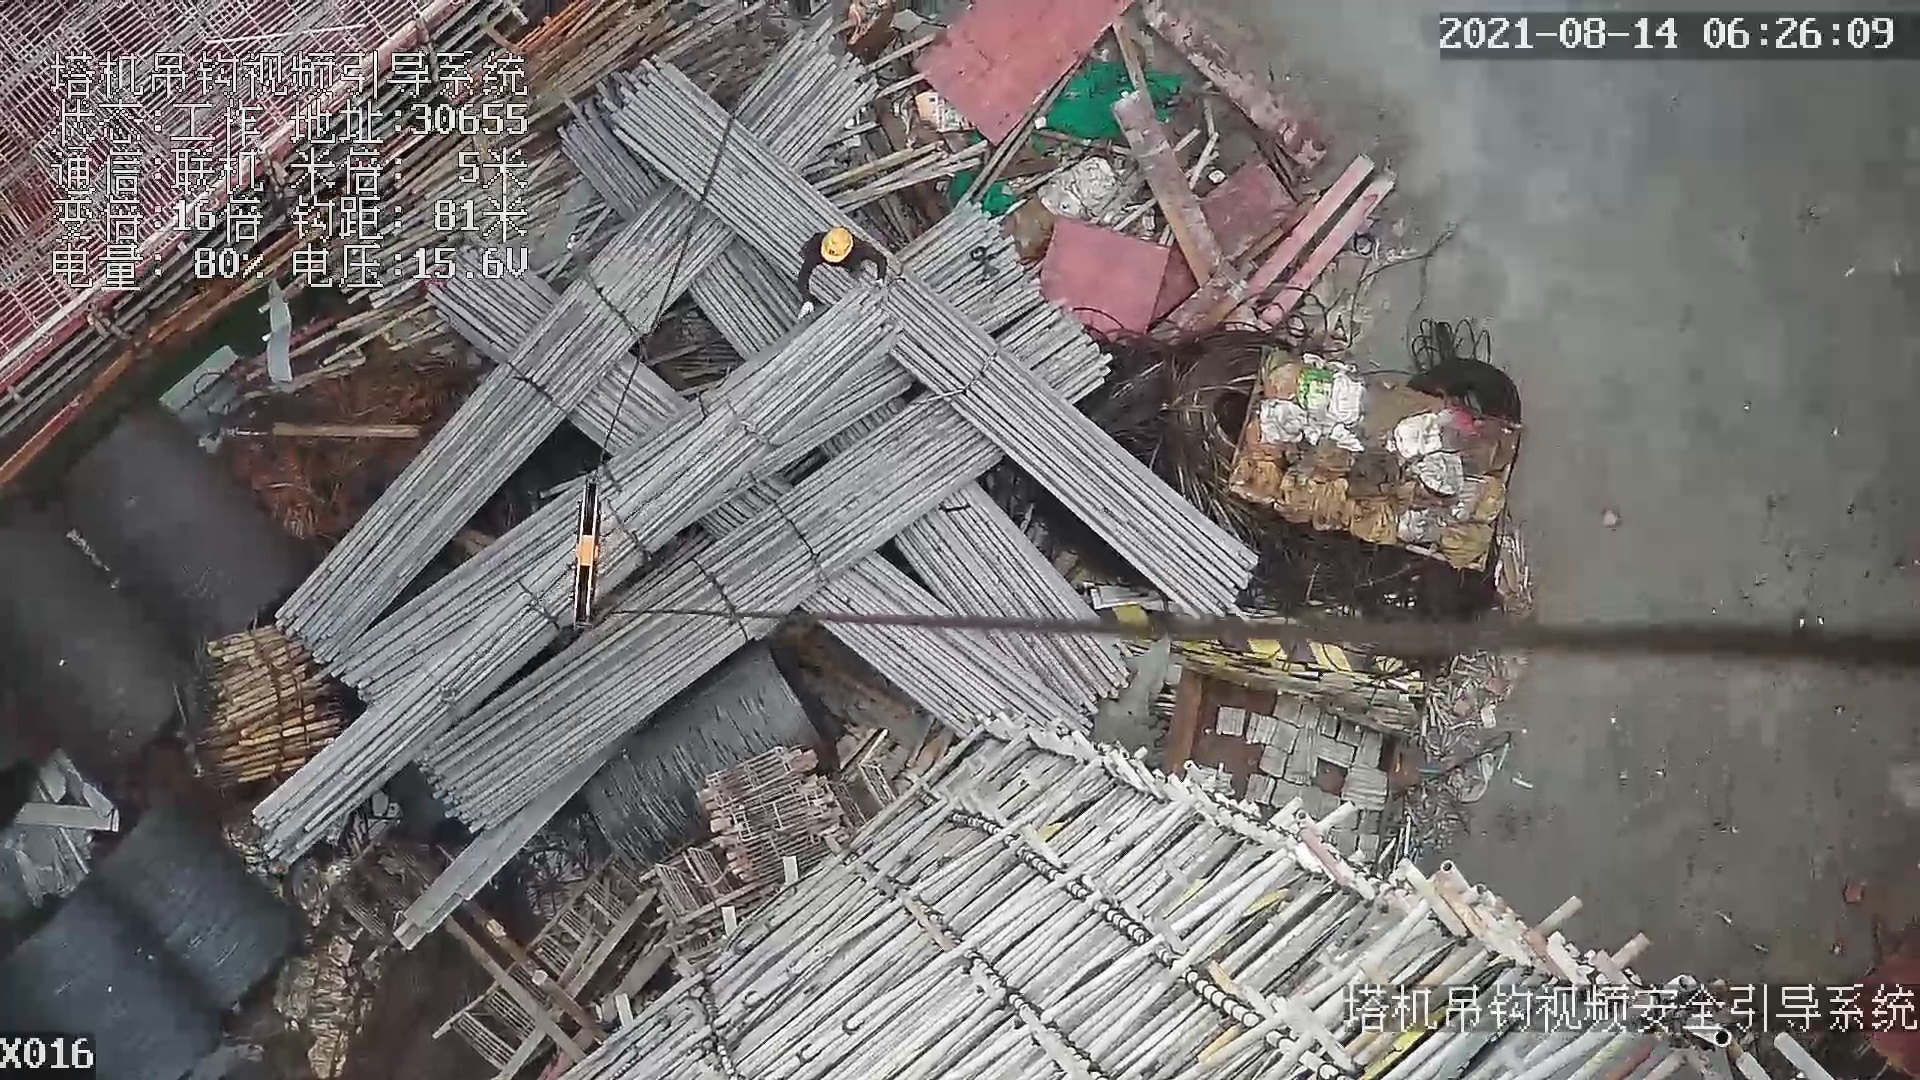helmet: (819, 223, 855, 269)
hook: (567, 467, 610, 628)
person: (794, 222, 887, 319)
